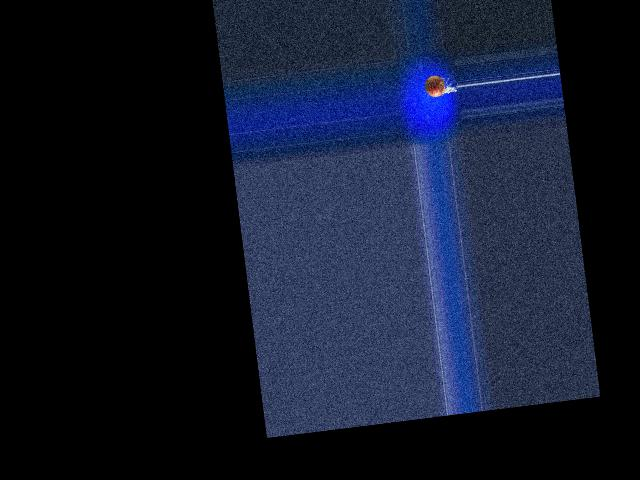tomato: (423, 73, 445, 97)
